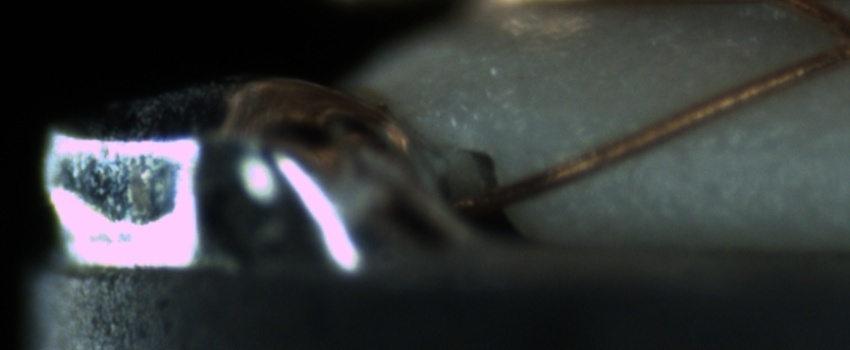CL: (800, 11, 849, 76)
